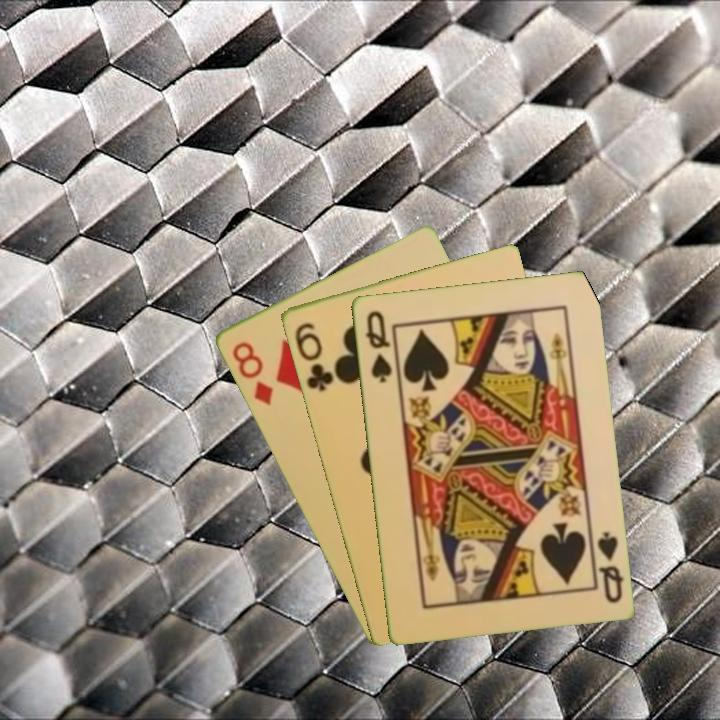6c: (291, 318, 336, 394)
8d: (228, 337, 276, 409)
Qs: (361, 307, 394, 386), (593, 527, 626, 606)
